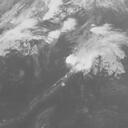cyclone: (65, 44, 96, 75)
